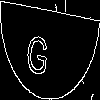G: (25, 25, 50, 76)
